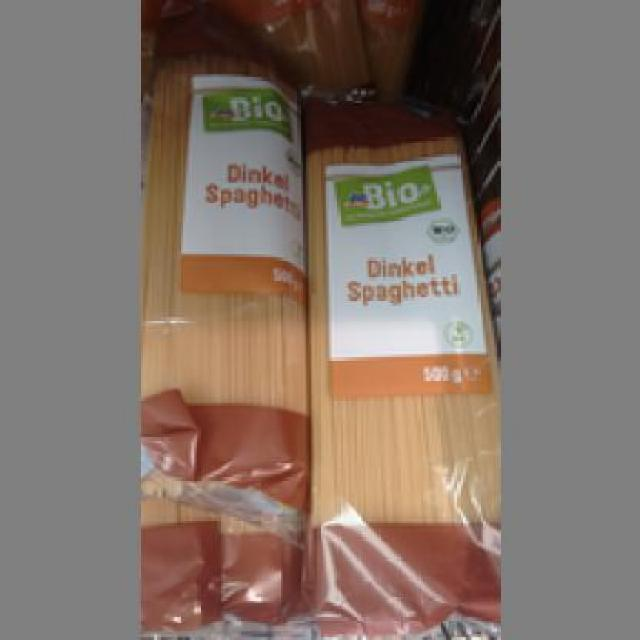Pasta: (300, 86, 497, 634), (140, 23, 300, 540)
